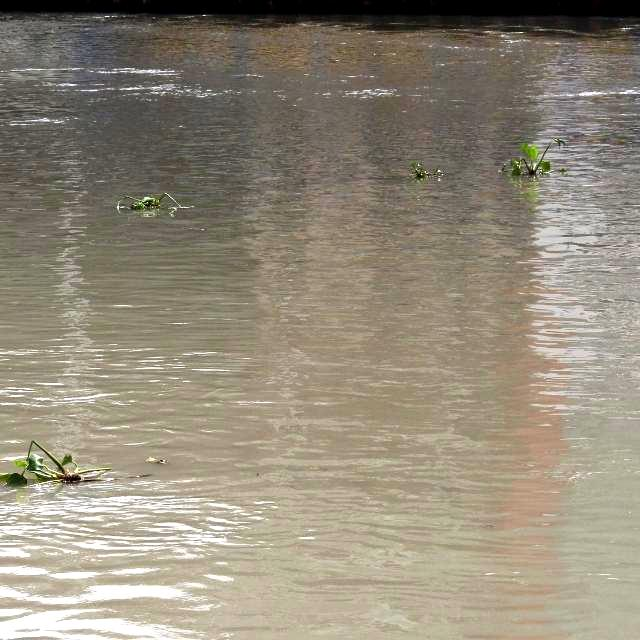water-hyacinth: (4, 439, 105, 495), (500, 139, 562, 182), (115, 189, 192, 214), (403, 159, 446, 180)
